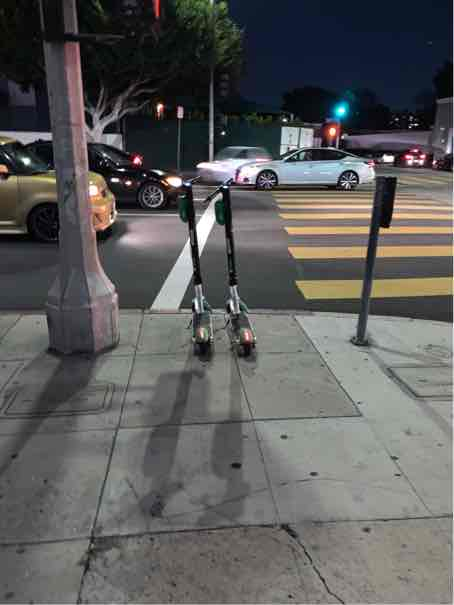too close: (219, 292, 260, 327), (182, 292, 222, 327)
